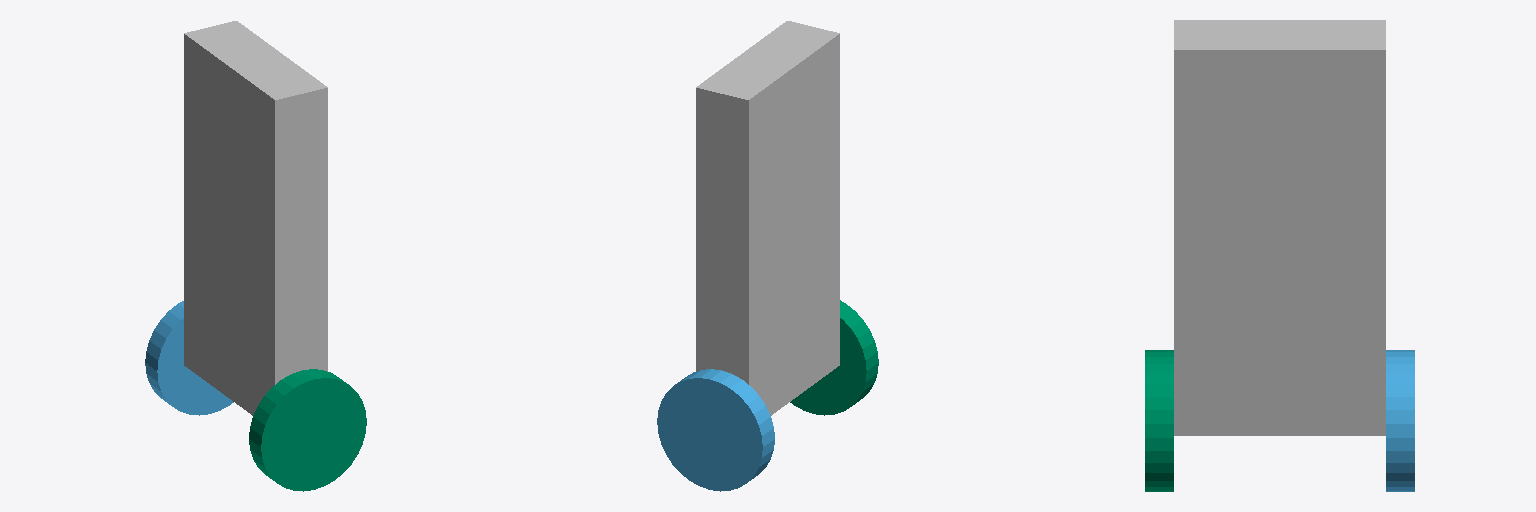
The robot description file, URDF, robot "balancio":
<?xml version="1.0" ?>
<robot name="balancio" xmlns:xacro="http://www.ros.org/wiki/xacro">

  <material name="black">
    <color rgba="0.0 0.0 0.0 1.0"/>
  </material>
  <material name="blue">
    <color rgba="0.203125 0.23828125 0.28515625 1.0"/>
  </material>
  <material name="green">
    <color rgba="0.0 0.8 0.0 1.0"/>
  </material>
  <material name="grey">
    <color rgba="0.8 0.8 0.8 1.0"/>
  </material>
  <material name="orange">
    <color rgba="1.0 0.423529411765 0.0392156862745 1.0"/>
  </material>
  <material name="brown">
    <color rgba="0.870588235294 0.811764705882 0.764705882353 1.0"/>
  </material>
  <material name="red">
    <color rgba="0.80078125 0.12890625 0.1328125 1.0"/>
  </material>
  <material name="white">
    <color rgba="1.0 1.0 1.0 1.0"/>
  </material>


 <!-- Base -->
	<!-- <link name="dummy_link"/>

  <joint name="base_joint" type="fixed">
    <origin rpy="0 0 0" xyz="0 0 0"/>
		<child link="link_chassis"/>
    <parent link="dummy_link"/>
  </joint> -->

  <link name="link_chassis">
    <!-- pose and inertial -->
    <pose>0 0 0 0 0 0</pose>
    <inertial>
      <mass value="0.5"/>
      <origin rpy="0 0 0" xyz="0 0 0"/>
      <inertia ixx="0.03" ixy="0" ixz="0" iyy="0.03" iyz="0" izz="0.03"/>
    </inertial>
    <!-- body -->
    <collision name="collision_chassis">
      <origin rpy="0 0 0" xyz="0 0 0"/>
      <geometry>
        <box size="0.1 0.3 0.6"/>
      </geometry>
    </collision>
    <visual>
      <origin rpy="0 0 0" xyz="0 0 0"/>
      <geometry>
        <box size="0.1 0.3 0.6"/>
        <!-- <mesh filename="package://robot_description/stl/Plank.stl" scale="1 1 1"/> -->
      </geometry>
      <material name="grey"/>
    </visual>
  </link>


<!-- Wheels -->
  <joint name="joint_left_wheel" type="continuous">  <!-- We set revolute with infinite limits as a workaround to sdf conversion problems -->
    <origin rpy="0 0 0" xyz="0 0.17 -0.3"/>
    <child link="link_left_wheel"/>
    <parent link="link_chassis"/>
    <axis rpy="0 0 0" xyz="0 1 0"/>
    <limit effort="0.8" velocity="30"/>
    <!--<limit effort="0.8" velocity="30"/>-->
    <dynamics damping="0.0005" friction="0.0005"/>  <!-- damping coefficient: [N*m*s/rad] 0.0005-->
    <safety_controller k_velocity="0.026"/>  <!-- Kv en este caso: Torque/vel (http://wiki.ros.org/pr2_controller_manager/safety_limits) -->
  </joint>

  <link name="link_left_wheel">
    <inertial>
      <mass value="0.1"/>
      <origin rpy="0 1.5707 1.5707" xyz="0 0 0"/>
      <inertia ixx="0.0001" ixy="0" ixz="0" iyy="0.00005" iyz="0" izz="0.00005"/>
    </inertial>
    <collision name="link_left_wheel_collision">
      <origin rpy="0 1.5707 1.5707" xyz="0 0 0"/>
      <geometry>
        <cylinder length="0.04" radius="0.1"/>
      </geometry>
    </collision>
    <visual name="link_left_wheel_visual">
      <origin rpy="0 1.5707 1.5707" xyz="0 0 0"/>
      <geometry>
        <cylinder length="0.04" radius="0.1"/>
      </geometry>
    </visual>
  </link>

  <joint name="joint_right_wheel" type="continuous">  <!-- We set revolute with infinite limits as a workaround to sdf conversion problems -->
    <origin rpy="0 0 0" xyz="0 -0.17 -0.3"/>
    <child link="link_right_wheel"/>
    <parent link="link_chassis"/>
    <axis rpy="0 0 0" xyz="0 1 0"/>
		<limit effort="0.8" velocity="30"/>
    <!--<limit effort="0.8" velocity="30"/>-->
  	<dynamics damping="0.0005" friction="0.0005"/>  <!-- damping coefficient: [N*m*s/rad] -->
		<safety_controller k_velocity="0.026"/>  <!-- Kv en este caso: Torque/vel (http://wiki.ros.org/pr2_controller_manager/safety_limits) -->
  </joint>

  <link name="link_right_wheel">
    <inertial>
      <mass value="0.1"/>
      <origin rpy="0 1.5707 1.5707" xyz="0 0 0"/>
      <inertia ixx="0.0001" ixy="0" ixz="0" iyy="0.00005" iyz="0" izz="0.00005"/>
    </inertial>
    <collision name="link_right_wheel_collision">
      <origin rpy="0 1.5707 1.5707" xyz="0 0 0"/>
      <geometry>
        <cylinder length="0.04" radius="0.1"/>
      </geometry>
    </collision>
    <visual name="link_right_wheel_visual">
      <origin rpy="0 1.5707 1.5707" xyz="0 0 0"/>
      <geometry>
        <cylinder length="0.04" radius="0.1"/>
      </geometry>
    </visual>
  </link>

</robot>

--- Facts derived from the render (not from the file) ---
The picture shows the robot from 3 angles, left to right: view 1: azimuth 30°, elevation 25°; view 2: azimuth 150°, elevation 25°; view 3: azimuth 270°, elevation 25°; orthographic projection.
Robot: balancio — 3 links, 2 joints (2 continuous); root link link_chassis; default pose: every joint at zero.
Visible links, largest first — view 1: link_chassis, link_right_wheel, link_left_wheel; view 2: link_chassis, link_left_wheel, link_right_wheel; view 3: link_chassis, link_left_wheel, link_right_wheel.
Boxes of the visible links, x1,y1,x2,y2 form: link_chassis: [184, 21, 327, 415]; link_right_wheel: [249, 369, 366, 491]; link_left_wheel: [145, 301, 233, 415]; link_chassis: [696, 21, 839, 415]; link_left_wheel: [657, 369, 774, 491]; link_right_wheel: [790, 300, 878, 415]; link_chassis: [1174, 20, 1385, 435]; link_left_wheel: [1386, 350, 1414, 491]; link_right_wheel: [1145, 350, 1173, 491].
Bounding box of the posed robot: 0.2 × 0.38 × 0.7 m (x, y, z).
Geometry: primitives only (box / cylinder / sphere), no mesh files.